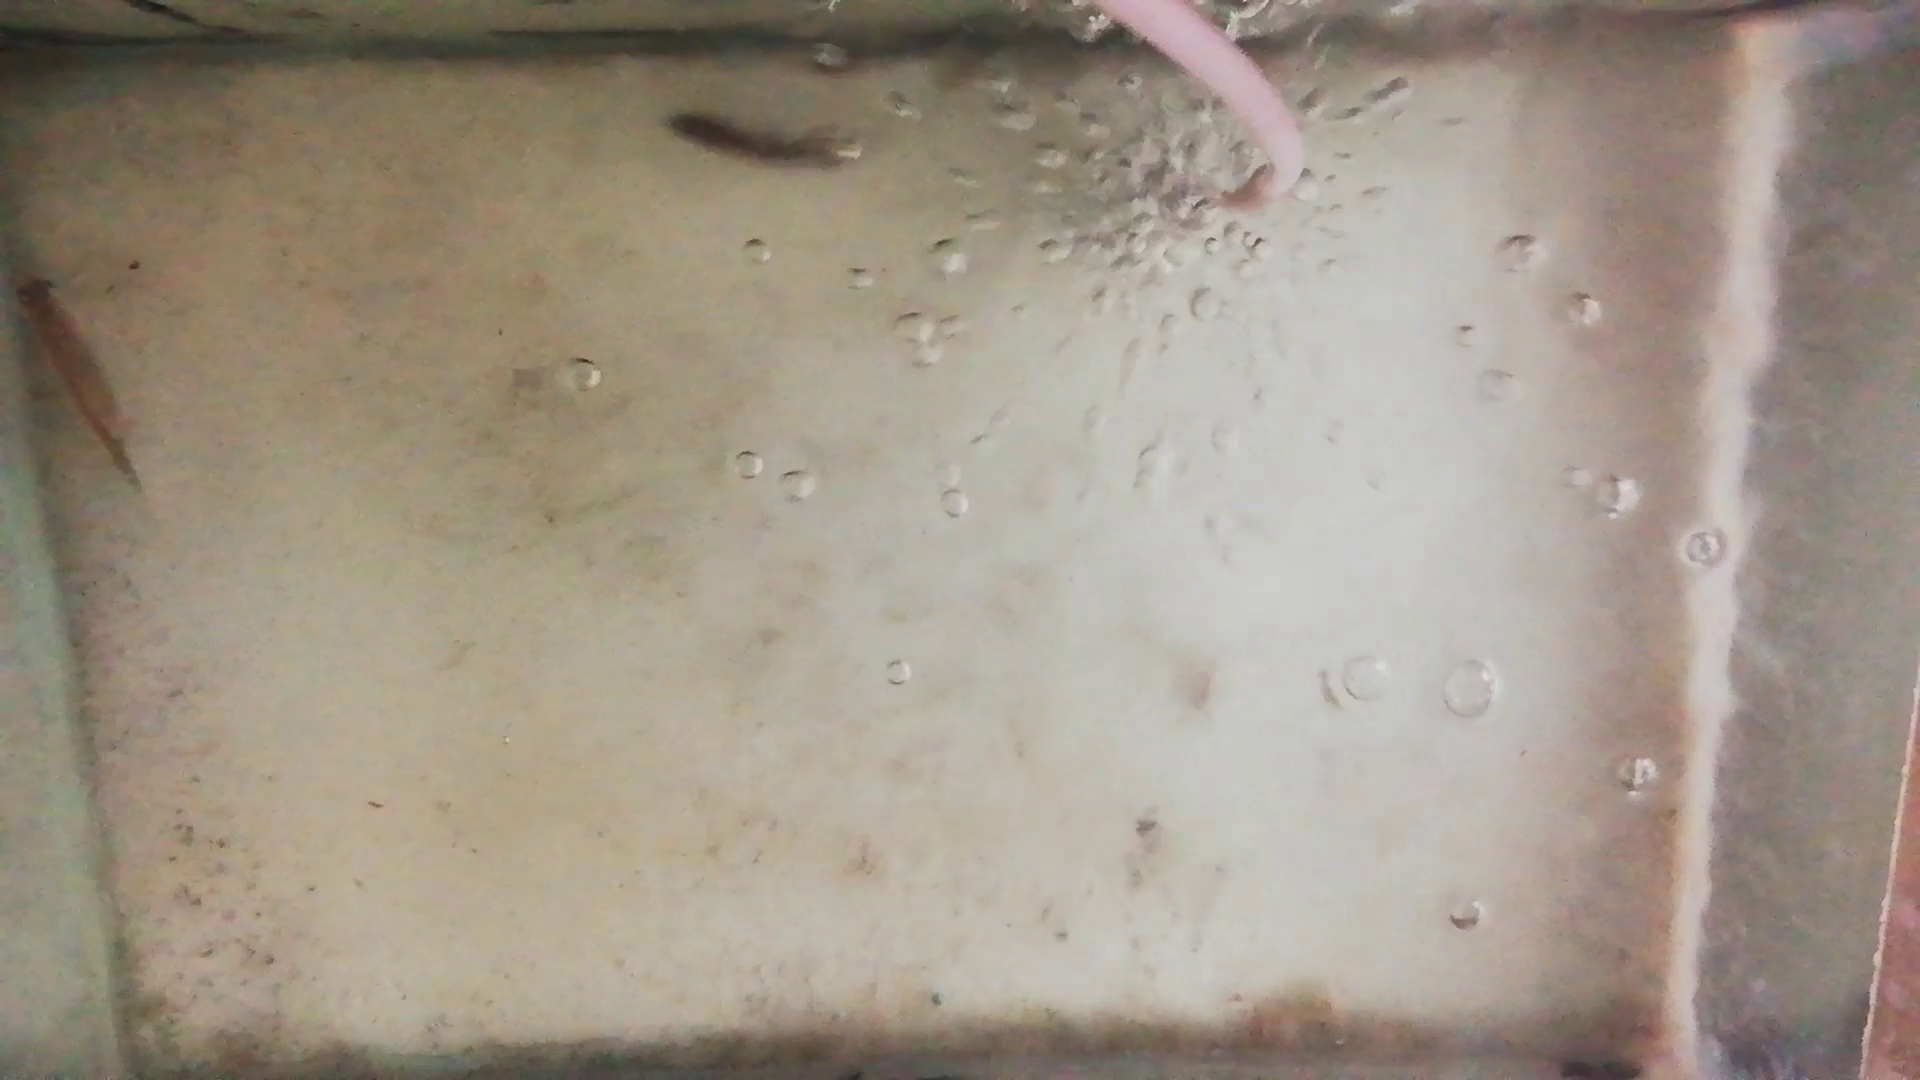fish: (15, 276, 140, 481), (655, 115, 839, 171)
